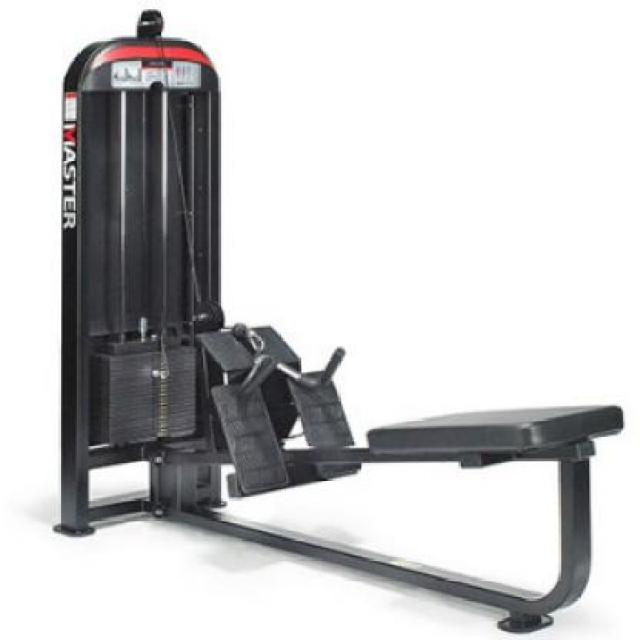Seated Cable Rows: (23, 9, 628, 640)
